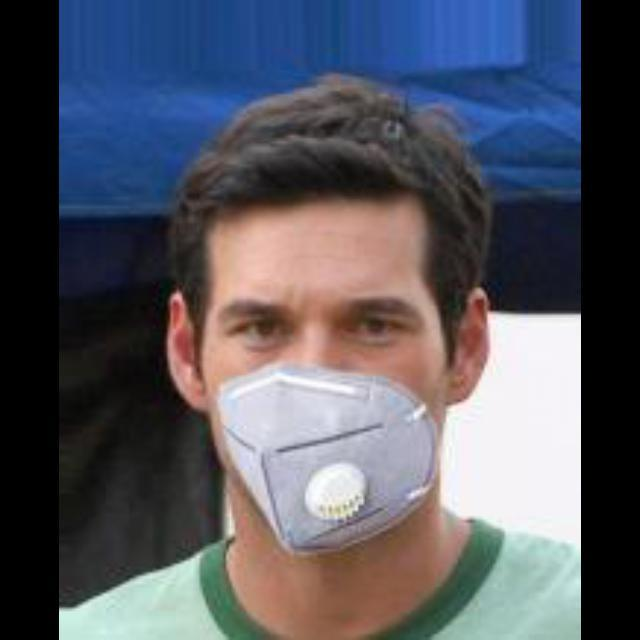suspicion: (163, 120, 494, 542)
